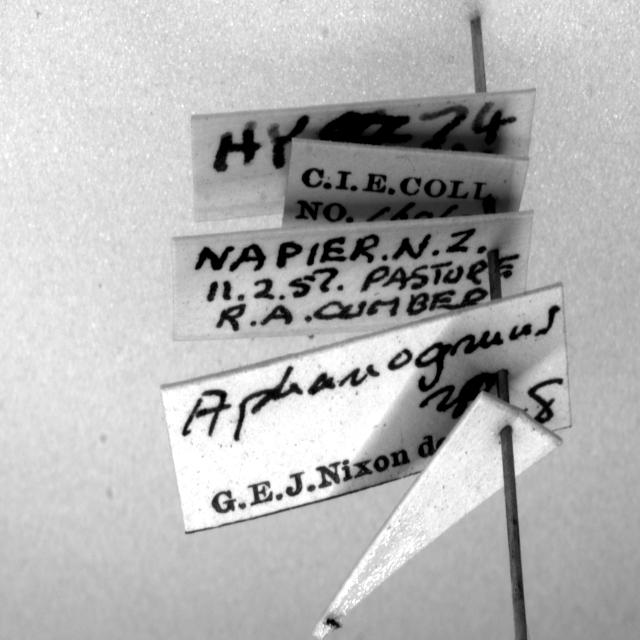hand_label: (172, 212, 532, 339)
mixed_label: (161, 284, 571, 533), (282, 139, 528, 227)
